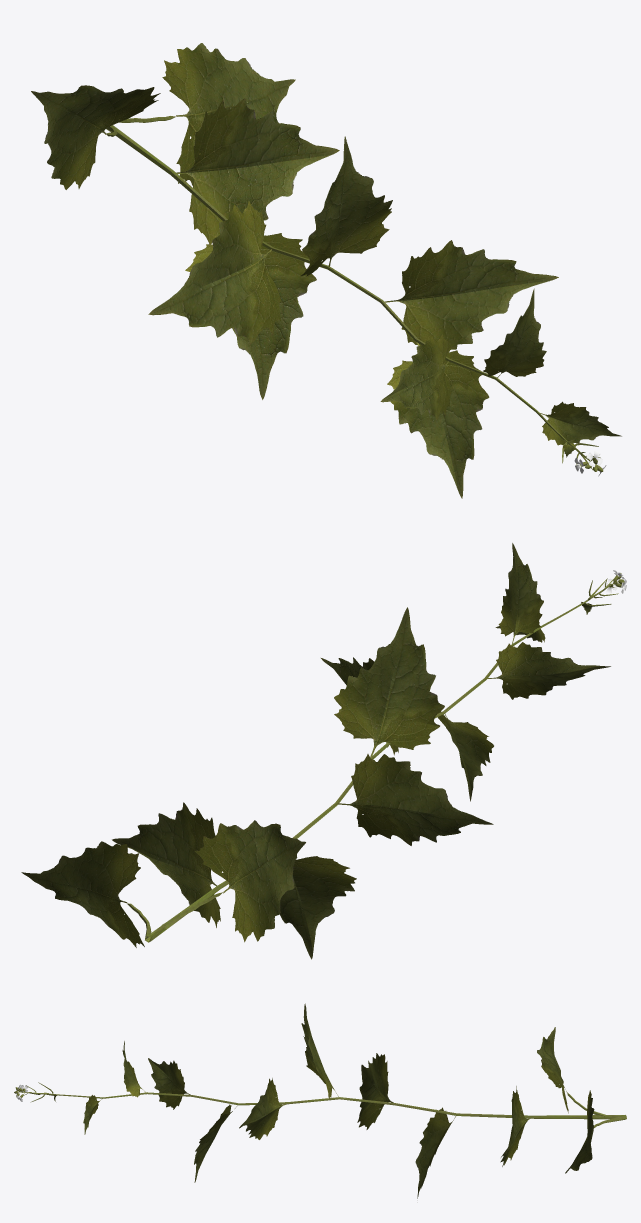
The picture shows the model from 3 angles, top to bottom: view 1: azimuth 30°, elevation 25°; view 2: azimuth 150°, elevation 25°; view 3: azimuth 270°, elevation 25°; orthographic projection. The views are drawn at different scales.
Visible parts, largest first — view 1: GC02_3; view 2: GC02_3; view 3: GC02_3.
Boxes of the visible parts, x1,y1,x2,y2 form: GC02_3: [31, 43, 621, 498]; GC02_3: [21, 543, 626, 959]; GC02_3: [14, 1003, 626, 1198].
Size of the model in its own units: 0.405 by 0.3829 by 1.02.
Materials: 3 (3 with a texture image).
